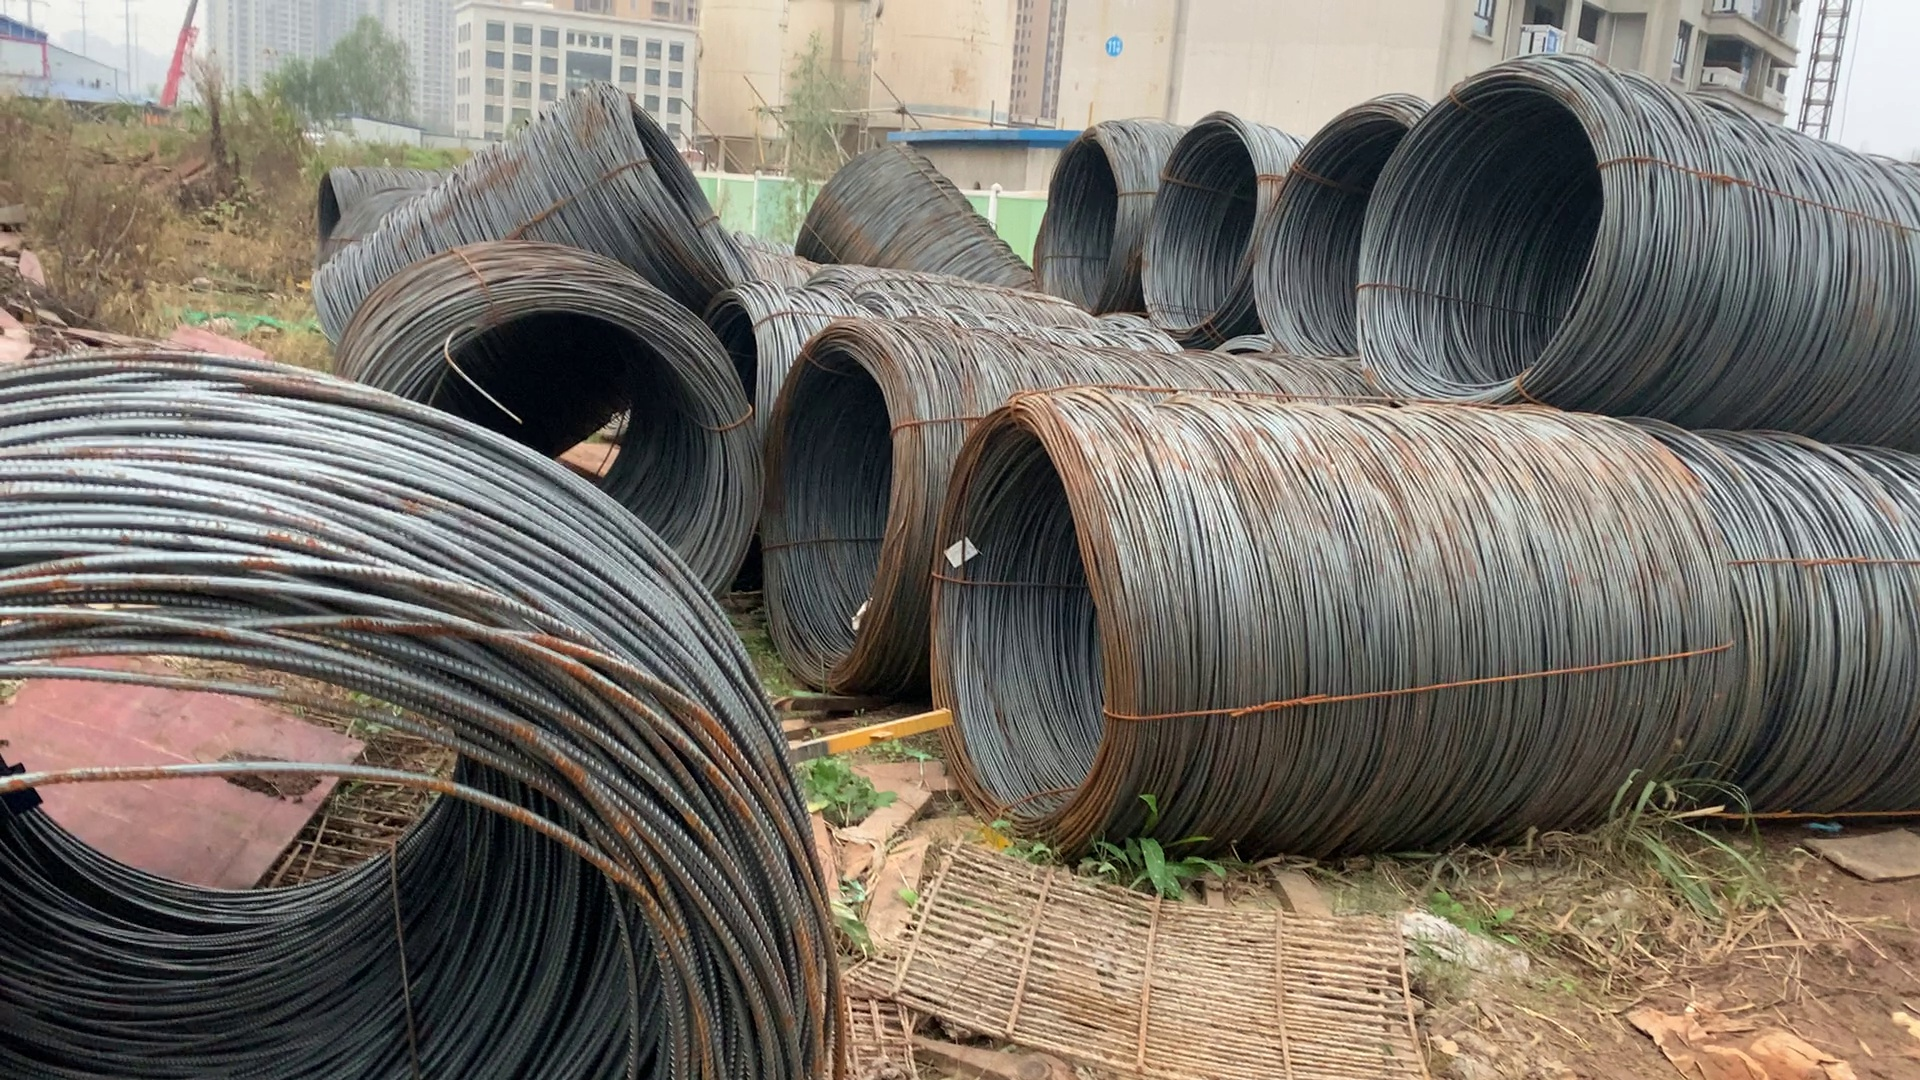coil: (1, 517, 860, 1065), (382, 293, 760, 611), (938, 404, 1139, 841), (1360, 94, 1615, 402), (767, 313, 907, 699), (603, 88, 771, 313), (1265, 102, 1407, 360), (1149, 109, 1257, 342), (1033, 124, 1127, 320), (307, 160, 352, 282)
